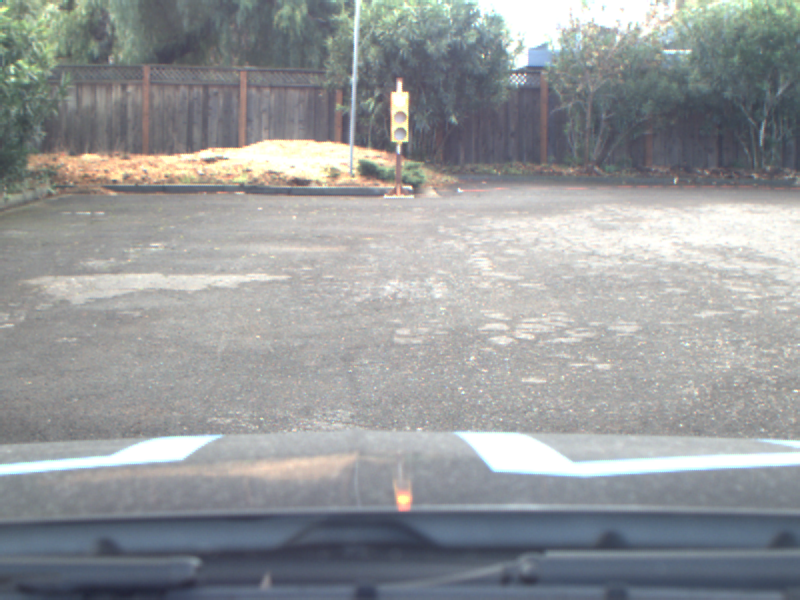Red: (389, 90, 409, 143)
